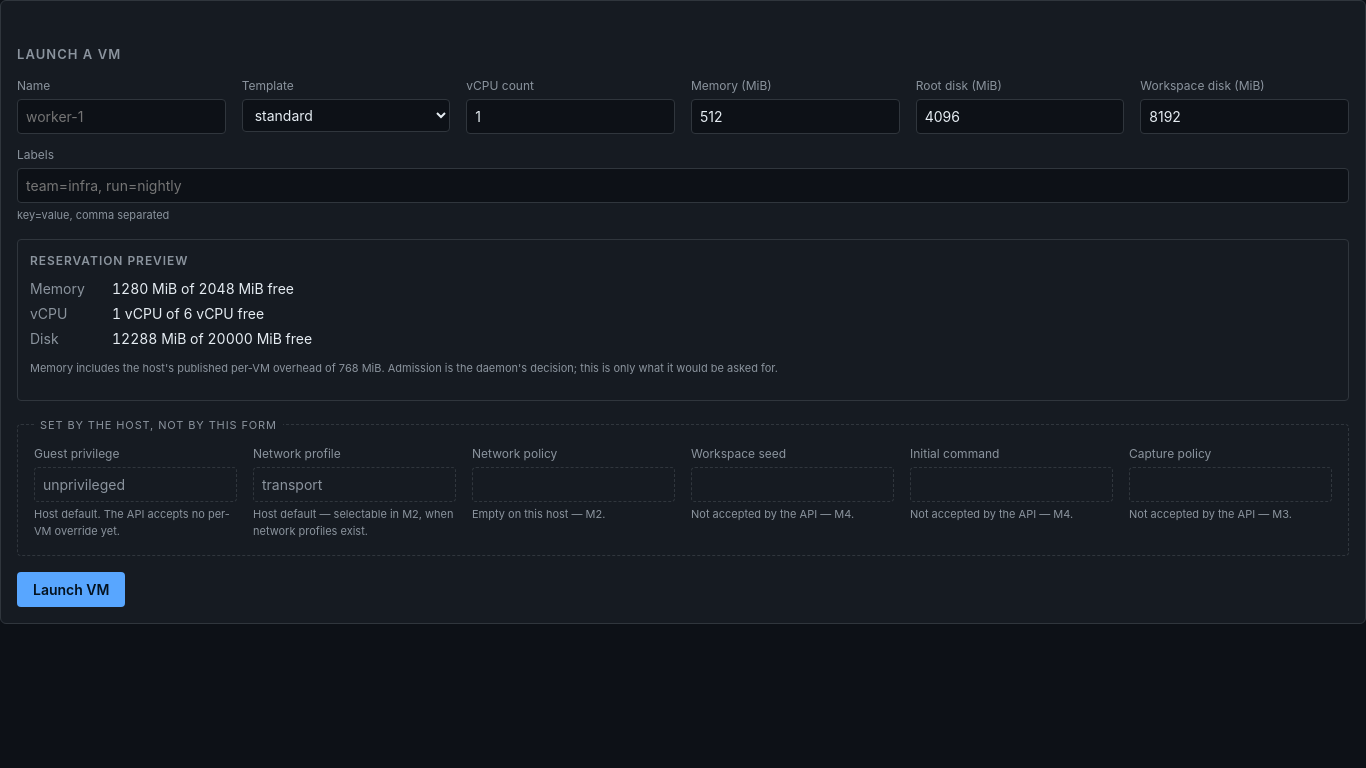
LaunchForm submit › shows the operation id after a successful launch
Click the button "Launch VM" at (71, 590), box [17,572,126,607]
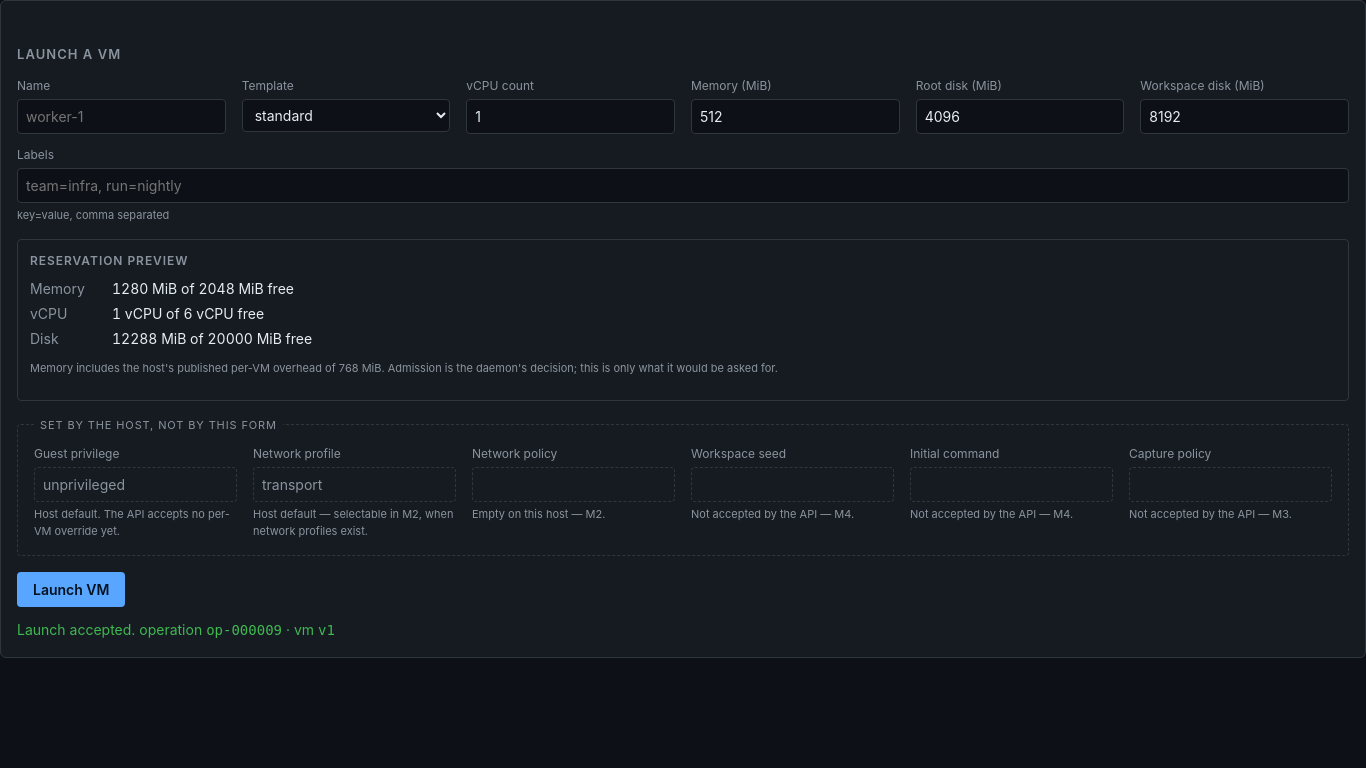
expect the message with test id "launch-result" shows "op-000009": met, box [206,622,282,638]
